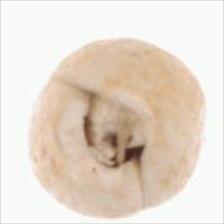L3: (75, 88, 146, 166)
L4: (27, 37, 207, 217)
